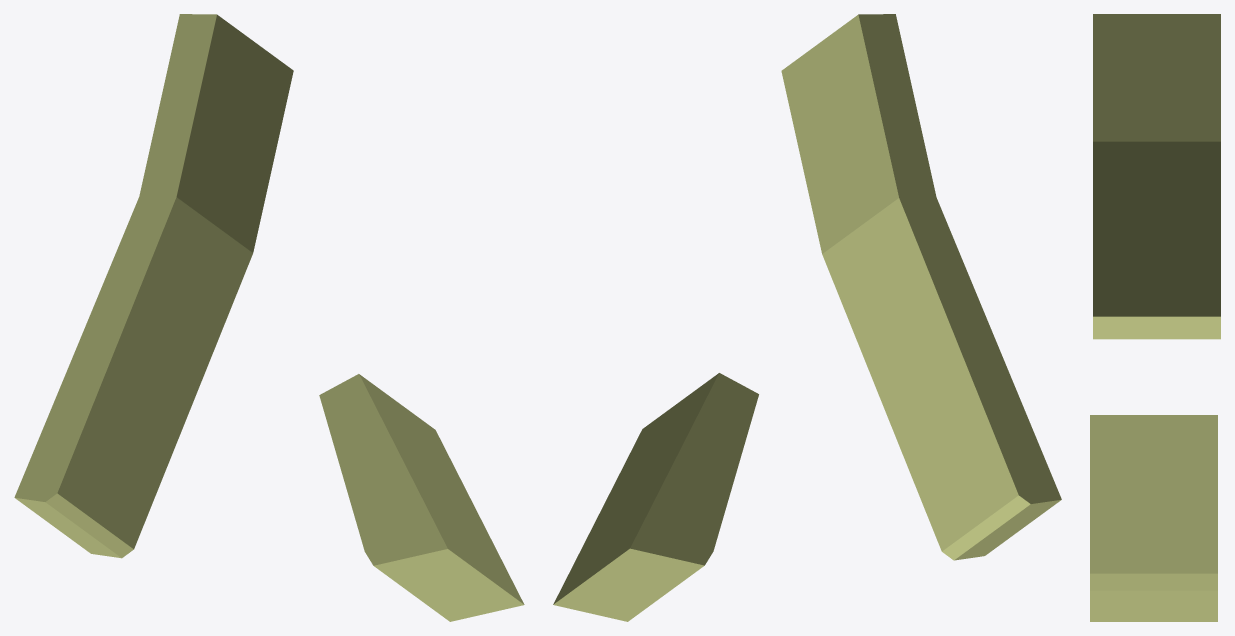
3 renders of one model, left to right at view 1: azimuth 30°, elevation 25°; view 2: azimuth 150°, elevation 25°; view 3: azimuth 270°, elevation 25°, orthographic. The views are drawn at different scales.
Parts seen in each view (by area): view 1: 0_0_1_2_3_0_3_1_3; view 2: 0_0_1_2_3_0_3_1_3; view 3: 0_0_1_2_3_0_3_1_3.
Part boxes in pixels (x1,y1,x2,y2): 0_0_1_2_3_0_3_1_3: (14, 14, 524, 621); 0_0_1_2_3_0_3_1_3: (553, 14, 1061, 621); 0_0_1_2_3_0_3_1_3: (1090, 14, 1220, 621).
Bounding box in the file's own units: 29.26 × 38.75 × 9.2.
